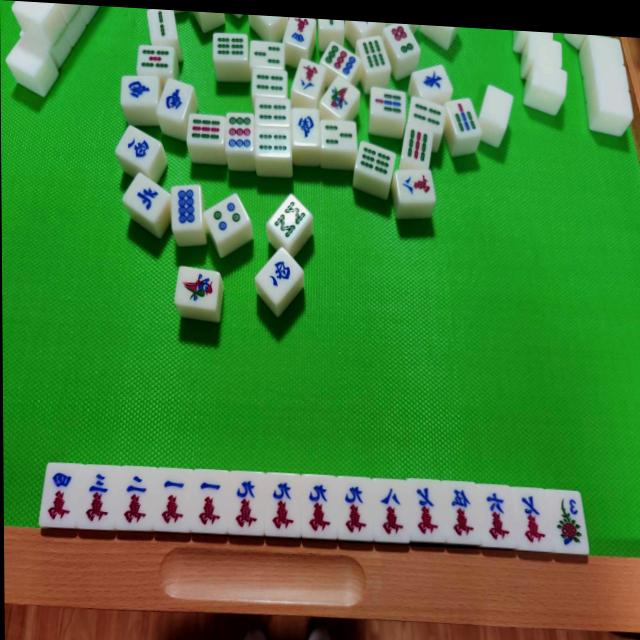f3: (551, 491, 581, 552)
m1: (154, 466, 191, 532), (192, 467, 227, 533)
m2: (116, 465, 154, 531)
m3: (78, 465, 116, 530)
m4: (40, 461, 78, 528)
m5: (444, 481, 476, 543)
m6: (477, 484, 512, 545)
m7: (514, 488, 548, 549), (409, 480, 443, 540)
m8: (375, 479, 408, 541)
m9: (228, 470, 264, 535), (265, 472, 301, 537), (302, 474, 337, 539), (339, 478, 372, 539)
